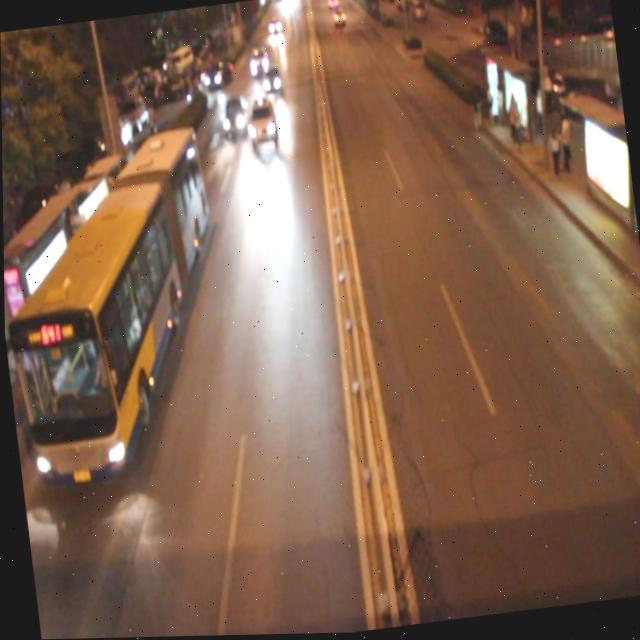car: (244, 95, 279, 148), (218, 92, 249, 138), (246, 44, 271, 79), (260, 63, 283, 97)
van: (1, 124, 232, 482)
